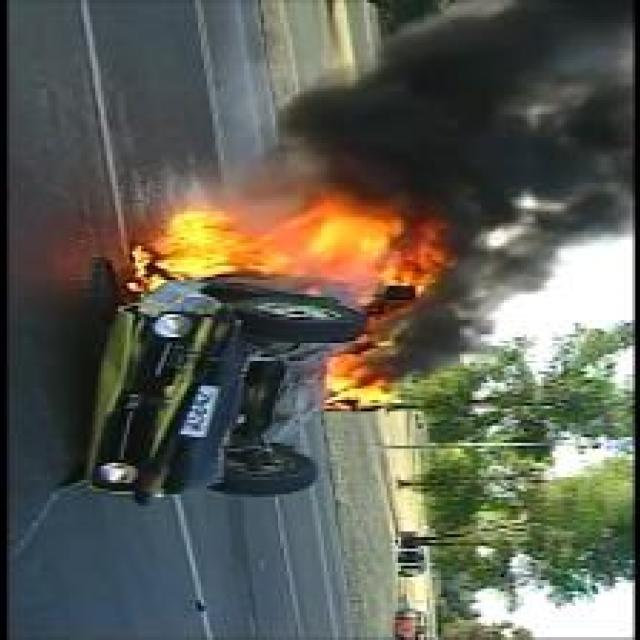Fire: (126, 195, 452, 308), (326, 342, 398, 408)
